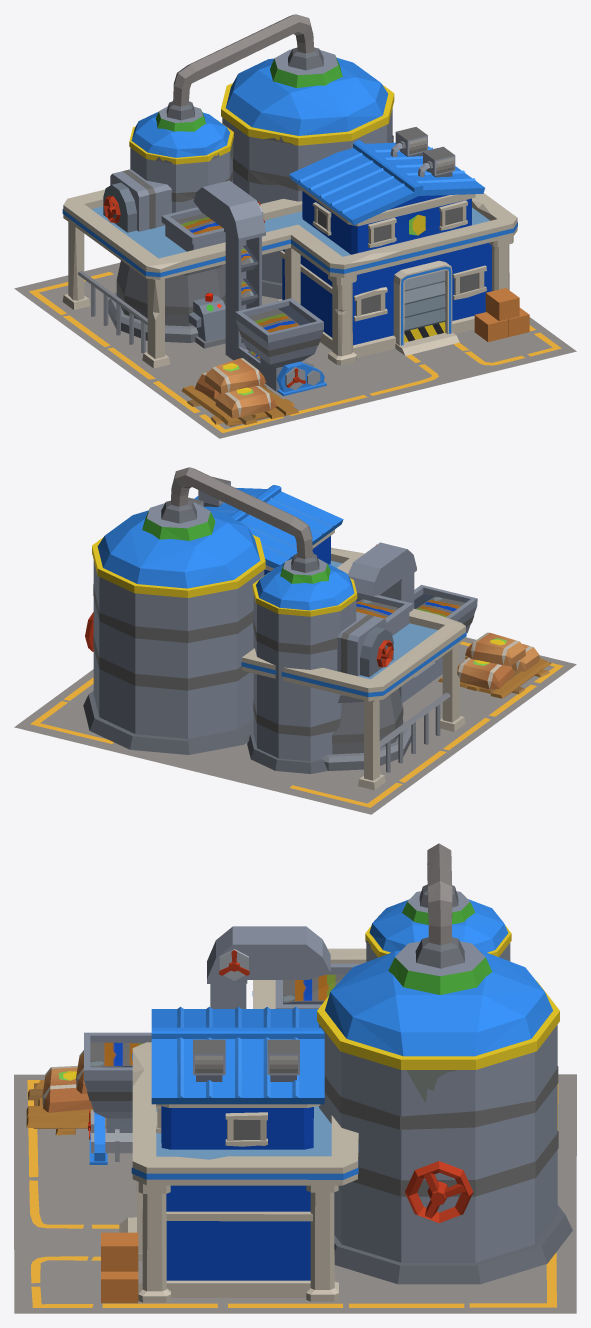
Rendered from Build_Chemical03.FBX.
The picture shows the model from 3 angles, top to bottom: view 1: azimuth 30°, elevation 25°; view 2: azimuth 150°, elevation 25°; view 3: azimuth 270°, elevation 25°; orthographic projection. The views are drawn at different scales.
Parts seen in each view (by area): view 1: Build_Chemical03, Build_Chemical03_Roof01, Object173, Build_Chemical03_Pipe, Build_Chemical03_Roof02, Object174, Object179, Build_Chemical03_Box01, Build_Chemical03_Box02; view 2: Build_Chemical03, Object173, Object174, Build_Chemical03_Roof01, Build_Chemical03_Pipe, Build_Chemical03_Roof02, Object179; view 3: Build_Chemical03, Object173, Build_Chemical03_Roof01, Build_Chemical03_Roof02, Build_Chemical03_Pipe, Build_Chemical03_Switch02, Build_Chemical03_Box02, Build_Chemical03_Box01.
Part boxes in pixels (x1,y1,x2,y2): Build_Chemical03: (14,140,576,438); Build_Chemical03_Roof01: (221,49,394,145); Object173: (222,108,393,299); Build_Chemical03_Pipe: (166,14,323,120); Build_Chemical03_Roof02: (129,106,233,164); Object174: (130,140,233,213); Object179: (103,169,171,232); Build_Chemical03_Box01: (418,146,455,177); Build_Chemical03_Box02: (390,127,427,157); Build_Chemical03: (14,485,576,814); Object173: (83,560,264,754); Object174: (247,594,356,773); Build_Chemical03_Roof01: (92,502,265,597); Build_Chemical03_Pipe: (161,467,319,572); Build_Chemical03_Roof02: (252,558,357,616); Object179: (337,611,393,677); Build_Chemical03: (14,926,576,1313); Object173: (319,1024,572,1284); Build_Chemical03_Roof01: (317,941,559,1069); Build_Chemical03_Roof02: (365,891,511,957); Build_Chemical03_Pipe: (415,843,464,968); Build_Chemical03_Switch02: (405,1161,473,1223); Build_Chemical03_Box02: (267,1039,299,1081); Build_Chemical03_Box01: (193,1039,225,1081).
Size of the model in its own units: 868 by 595 by 864.
Materials: 1 (1 with a texture image).
